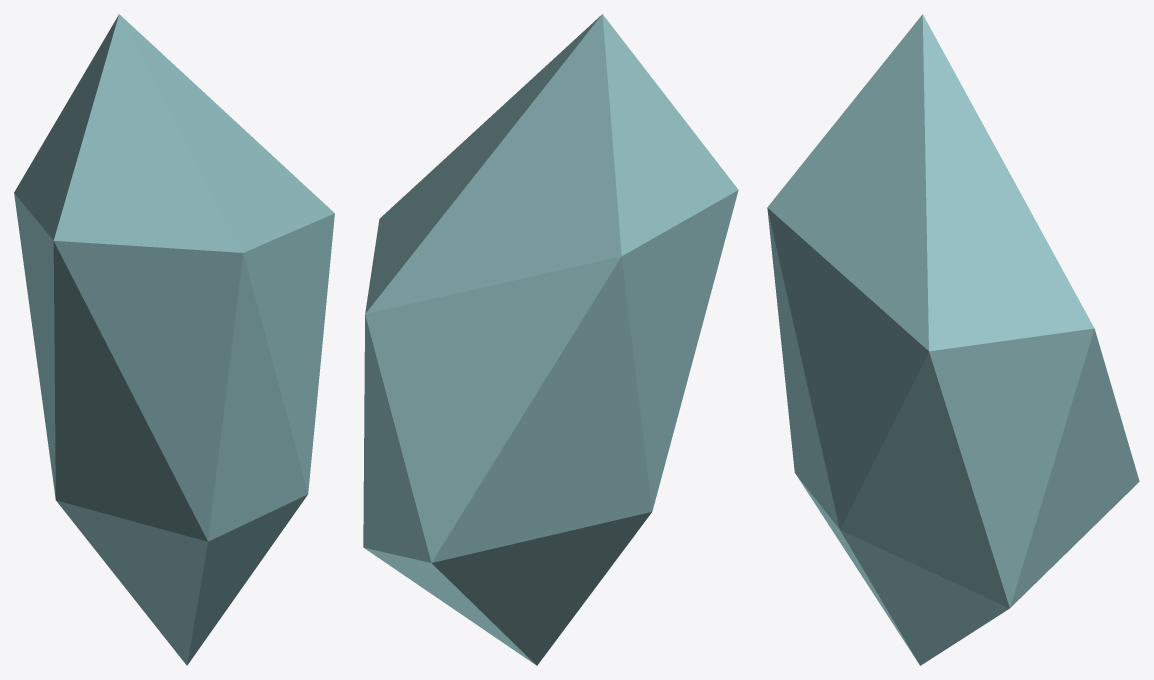
File: kamen 6.fbx
3 renders of one model, left to right at view 1: azimuth 30°, elevation 25°; view 2: azimuth 150°, elevation 25°; view 3: azimuth 270°, elevation 25°, orthographic. The views are drawn at different scales.
Parts seen in each view (by area): view 1: Icosphere.010; view 2: Icosphere.010; view 3: Icosphere.010.
Boxes of the visible parts, box(x1,y1,x2,y2) form: Icosphere.010: box(14, 14, 334, 665); Icosphere.010: box(363, 14, 738, 665); Icosphere.010: box(767, 14, 1139, 665).
Size of the model in its own units: 266 by 531 by 288.
